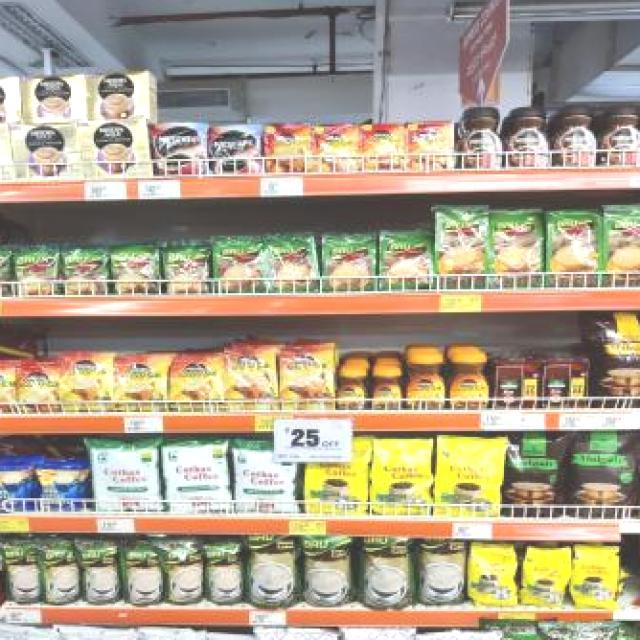Coffee: (280, 348, 336, 411), (225, 349, 279, 412), (114, 356, 168, 414), (170, 356, 225, 412), (61, 353, 111, 413), (154, 124, 206, 176), (555, 108, 599, 166), (598, 105, 640, 165), (461, 108, 503, 168), (209, 128, 262, 173), (510, 109, 550, 168), (406, 354, 446, 409), (450, 355, 490, 410), (18, 368, 60, 412), (372, 368, 402, 409), (338, 370, 368, 410), (0, 368, 15, 412)
